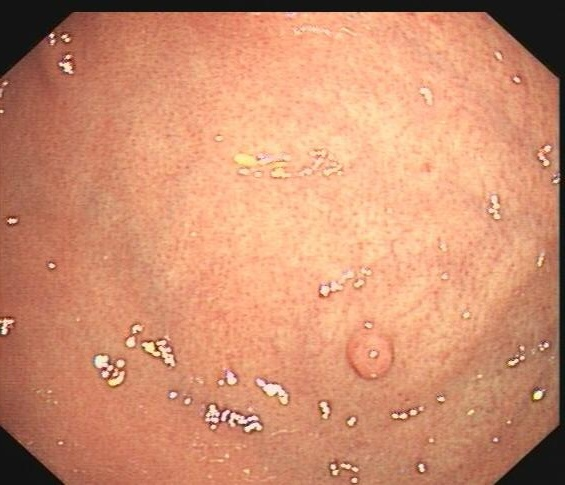Polyp: (344, 331, 395, 383)
